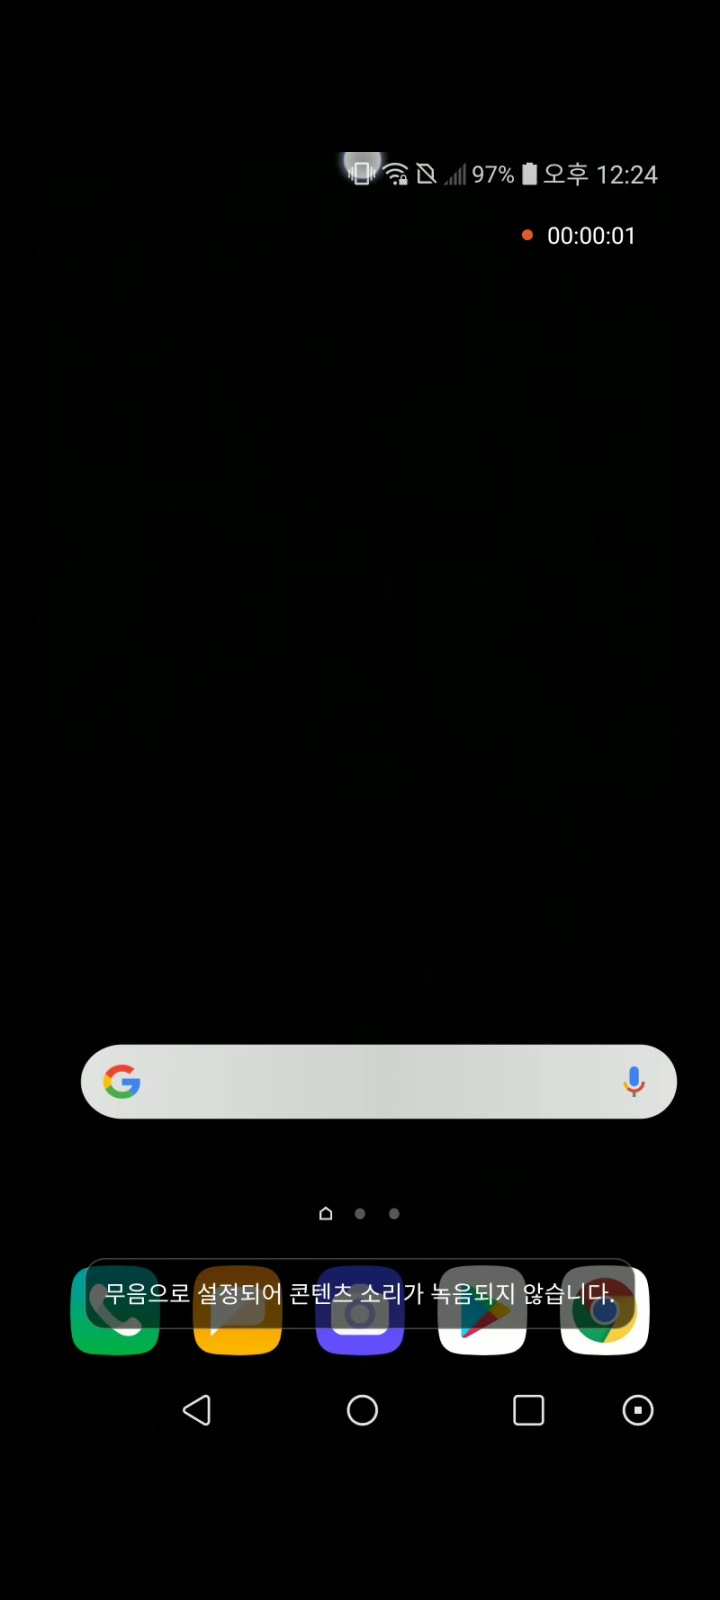Cursor: (339, 153, 387, 185)
